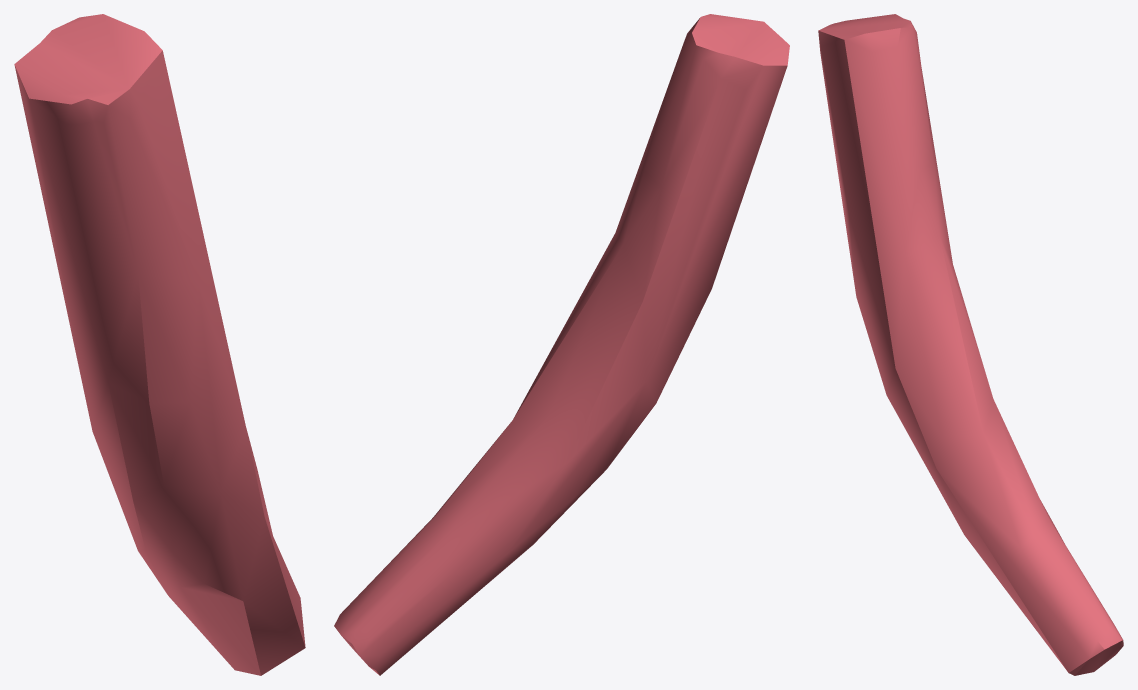
File: fma68140_fj5962.glb
The picture shows the model from 3 angles, left to right: view 1: azimuth 30°, elevation 25°; view 2: azimuth 150°, elevation 25°; view 3: azimuth 270°, elevation 25°; orthographic projection. The views are drawn at different scales.
Parts seen in each view (by area): view 1: FMA68140_FJ5962; view 2: FMA68140_FJ5962; view 3: FMA68140_FJ5962.
Boxes of the visible parts, x1,y1,x2,y2 form: FMA68140_FJ5962: [14, 14, 305, 675]; FMA68140_FJ5962: [334, 14, 789, 675]; FMA68140_FJ5962: [818, 14, 1123, 675].
Size of the model in its own units: 0.0101 by 0.0183 by 0.00912.
